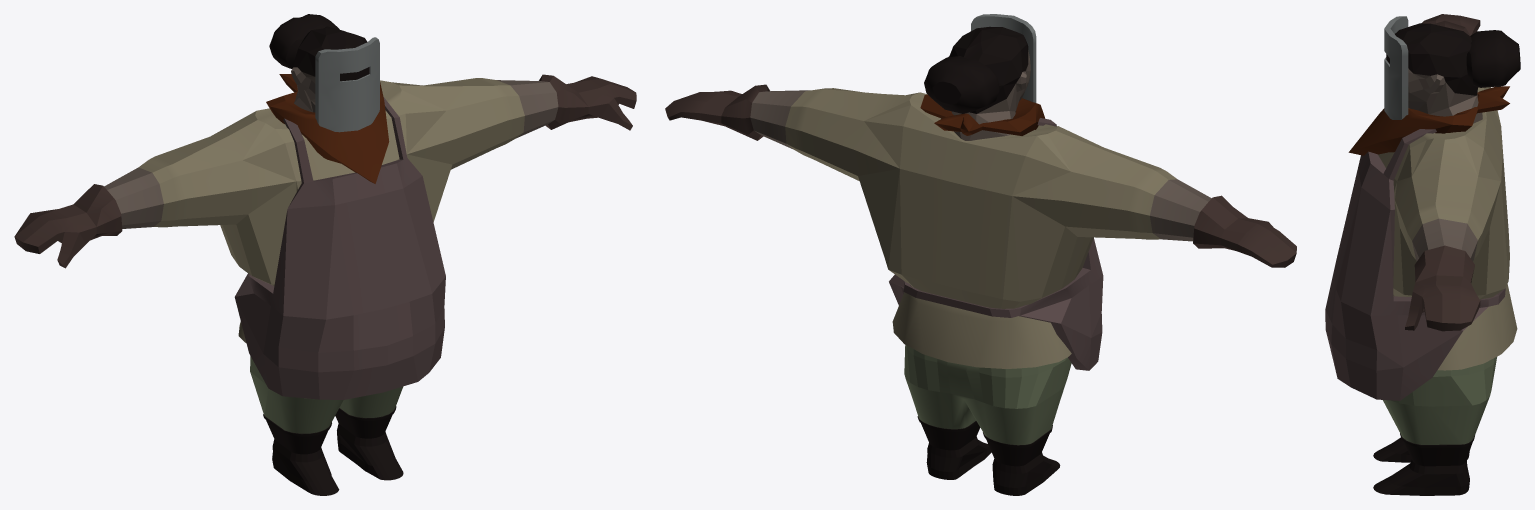
File: Blacksmith3.fbx
3 views of the same model, side by side, from view 1: azimuth 30°, elevation 25°; view 2: azimuth 150°, elevation 25°; view 3: azimuth 270°, elevation 25° (orthographic). The views are drawn at different scales.
Visible parts, largest first — view 1: Blacksmith; view 2: Blacksmith; view 3: Blacksmith.
Part boxes in pixels (<box>): Blacksmith: <box>14,14,636,495</box>; Blacksmith: <box>665,14,1296,495</box>; Blacksmith: <box>1325,14,1520,495</box>.
Size of the model in its own units: 216 by 146 by 58.32.
